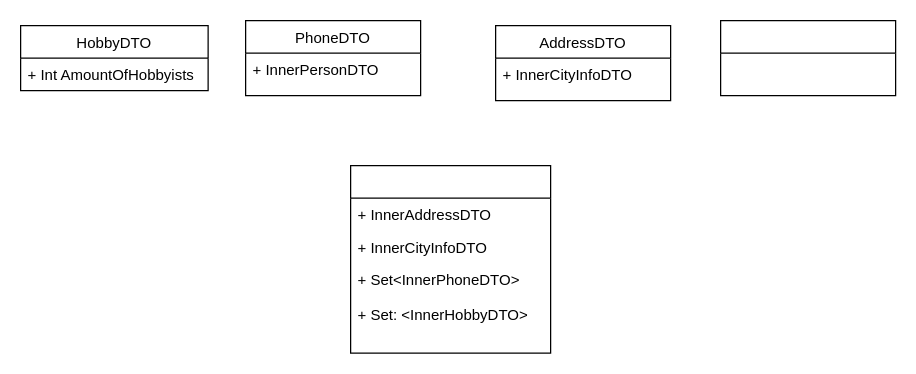
Some shapes in this 916 by 374 pixel diagram are drawn without their labels. Each missing label, with the box of its shape:
CityInfoDTO: (719, 19, 896, 96)
PersonDTO: (349, 164, 551, 353)
